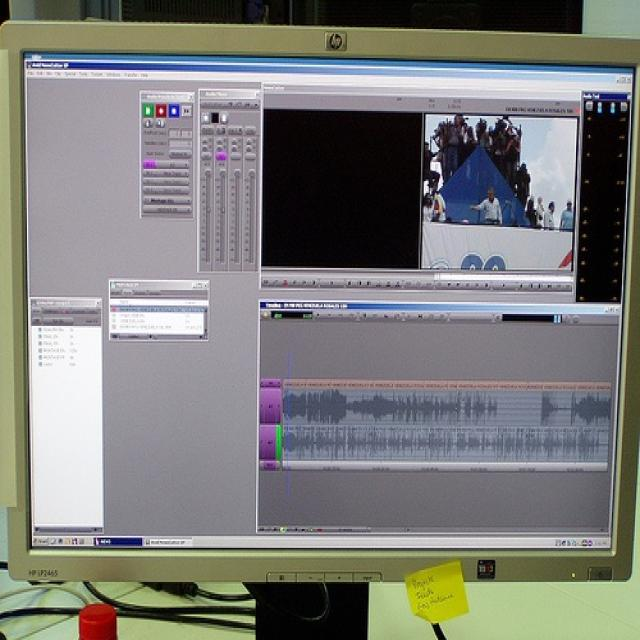tvmonitor: (0, 19, 636, 635)
